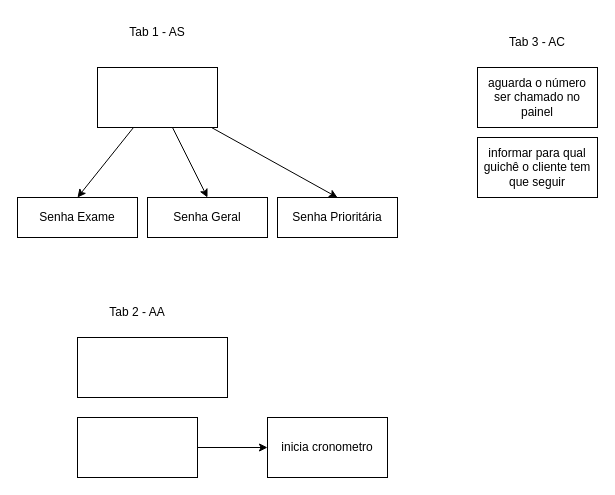
Image size: 615x495. Some labels were removed from this diagram. Each missing label, with the box of its shape:
Chamar o proximo na fila: (76, 336, 228, 398)
clicar atender proximo: (76, 416, 198, 478)
Emitir e exibir senhas: (96, 66, 218, 128)
